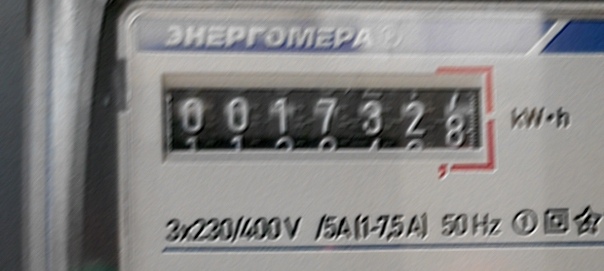0: (180, 95, 206, 136), (227, 96, 251, 134)
1: (272, 96, 291, 136)
2: (404, 100, 427, 138)
3: (362, 100, 385, 136)
7: (316, 96, 339, 136)
8: (445, 112, 465, 148)
screen: (151, 62, 507, 188)
